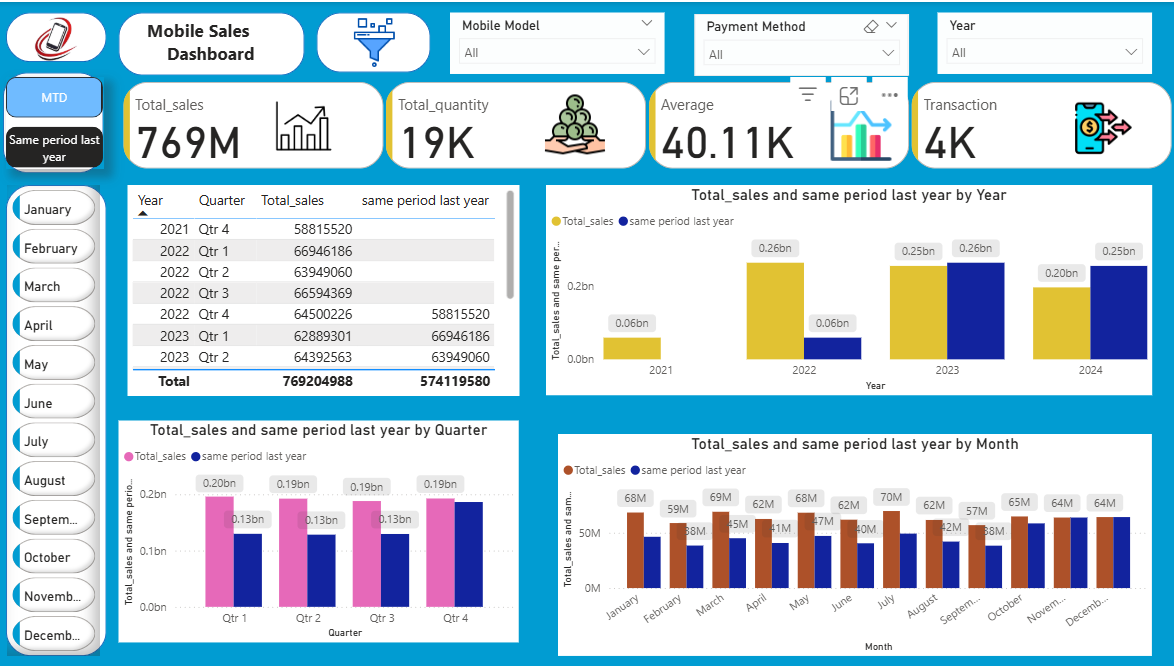

This screenshot's page, from the dashboard's own definition file:
{"tool":"powerbi","page":{"name":"Same period last year","canvas":[1280,720],"ordinal":2},"visuals":[{"type":"shape","box":[346.5,11.4,123.6,65.1],"z":0},{"type":"shape","box":[9.8,198.4,109,510.7],"z":1000},{"type":"advancedSlicerVisual","fields":{"Values":["Date.Date.Variation.Date Hierarchy.Month"]},"box":[11.4,198.4,100.8,510.7],"z":2000},{"type":"shape","box":[9.8,11.4,109,53.7],"z":3000},{"type":"shape","box":[6.5,76.4,109,109],"z":4000},{"type":"image","box":[29.3,6.5,69.9,66.7],"z":5000},{"type":"image","box":[372.5,11.4,73.2,65.1],"z":6000},{"type":"cardVisual","fields":{"Data":["Mobile_sales.Total_sales","Mobile_sales.Total_quantity","Mobile_sales.Average","Mobile_sales.Transaction"]},"box":[131.8,81.3,1148.3,104.1],"z":7000},{"type":"image","box":[566,92.7,122,79.7],"z":8000},{"type":"image","box":[1119.1,100.8,161,71.6],"z":9000},{"type":"image","box":[853.9,100.8,165.9,76.4],"z":10000},{"type":"image","box":[229.3,91.1,206.6,86.2],"z":11000},{"type":"slicer","fields":{"Values":["Mobile_sales.Mobile Model"]},"box":[491.2,11.4,232.6,66.7],"z":12000},{"type":"slicer","fields":{"Values":["Mobile_sales.Payment Method"]},"box":[756.3,13,232.6,66.7],"z":13000},{"type":"slicer","fields":{"Values":["Date.Date.Variation.Date Hierarchy.Year"]},"box":[1019.8,11.4,232.6,66.7],"z":14000},{"type":"shape","box":[131.8,11.4,201.7,68.3],"z":15000},{"type":"textbox","box":[157.8,13,148,61.8],"z":16000},{"type":"tableEx","fields":{"Values":["Date.Date.Variation.Date Hierarchy.Year","Date.Date.Variation.Date Hierarchy.Quarter","Mobile_sales.Total_sales","Mobile_sales.same period last year"]},"box":[141.5,198.4,424.5,227.7],"z":17000},{"type":"clusteredColumnChart","fields":{"Category":["Date.Date.Variation.Date Hierarchy.Year","Date.Date.Variation.Date Hierarchy.Quarter","Date.Date.Variation.Date Hierarchy.Month"],"Y":["Mobile_sales.Total_sales","Mobile_sales.same period last year"]},"box":[595.3,198.4,657.1,227.7],"z":18000},{"type":"clusteredColumnChart","fields":{"Y":["Mobile_sales.Total_sales","Mobile_sales.same period last year"],"Category":["Date.Date.Variation.Date Hierarchy.Quarter"]},"box":[131.8,453.8,434.3,240.7],"z":19000},{"type":"clusteredColumnChart","fields":{"Y":["Mobile_sales.Total_sales","Mobile_sales.same period last year"],"Category":["Date.Date.Variation.Date Hierarchy.Year","Date.Date.Variation.Date Hierarchy.Quarter","Date.Date.Variation.Date Hierarchy.Month","Date.Date.Variation.Date Hierarchy.Day"]},"box":[608.3,468.4,644.1,240.7],"z":20000},{"type":"pageNavigator","box":[15.1,77.5,83.2,94.5],"z":21000}]}

Visuals, with their boxes in screenshot pixels (x1, y1, x2, y2), scaled from the page's 1280x720 canvas onto the 1174x666 screenshot:
shape: BBox(318, 11, 431, 71)
shape: BBox(9, 184, 109, 656)
advancedSlicerVisual - Date.Date.Variation.Date Hierarchy.Month: BBox(10, 184, 103, 656)
shape: BBox(9, 11, 109, 60)
shape: BBox(6, 71, 106, 171)
image: BBox(27, 6, 91, 68)
image: BBox(342, 11, 409, 71)
cardVisual - Mobile_sales.Total_sales x Mobile_sales.Total_quantity: BBox(121, 75, 1173, 171)
image: BBox(519, 86, 631, 159)
image: BBox(1026, 93, 1173, 159)
image: BBox(783, 93, 935, 164)
image: BBox(210, 84, 400, 164)
slicer - Mobile_sales.Mobile Model: BBox(451, 11, 664, 72)
slicer - Mobile_sales.Payment Method: BBox(694, 12, 907, 74)
slicer - Date.Date.Variation.Date Hierarchy.Year: BBox(935, 11, 1149, 72)
shape: BBox(121, 11, 306, 74)
textbox: BBox(145, 12, 280, 69)
tableEx - Date.Date.Variation.Date Hierarchy.Year x Date.Date.Variation.Date Hierarchy.Quarter: BBox(130, 184, 519, 394)
clusteredColumnChart - Date.Date.Variation.Date Hierarchy.Year x Date.Date.Variation.Date Hierarchy.Quarter: BBox(546, 184, 1149, 394)
clusteredColumnChart - Mobile_sales.Total_sales x Mobile_sales.same period last year: BBox(121, 420, 519, 642)
clusteredColumnChart - Mobile_sales.Total_sales x Mobile_sales.same period last year: BBox(558, 433, 1149, 656)
pageNavigator: BBox(14, 72, 90, 159)
